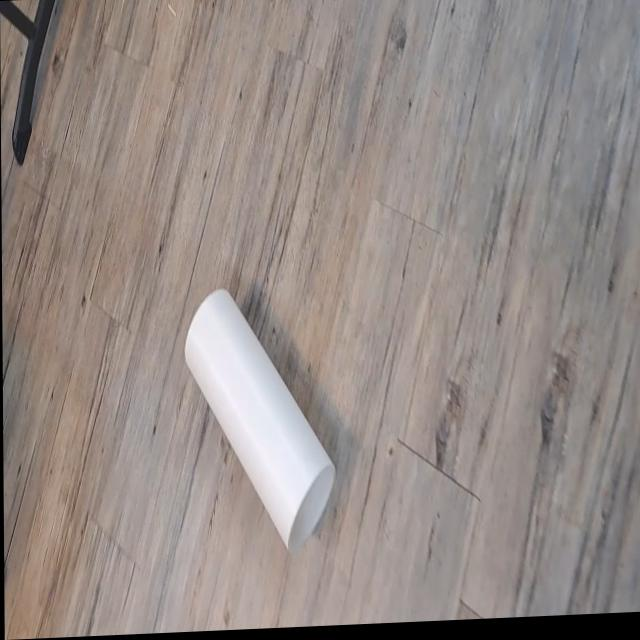CORAL: (174, 263, 348, 563)
